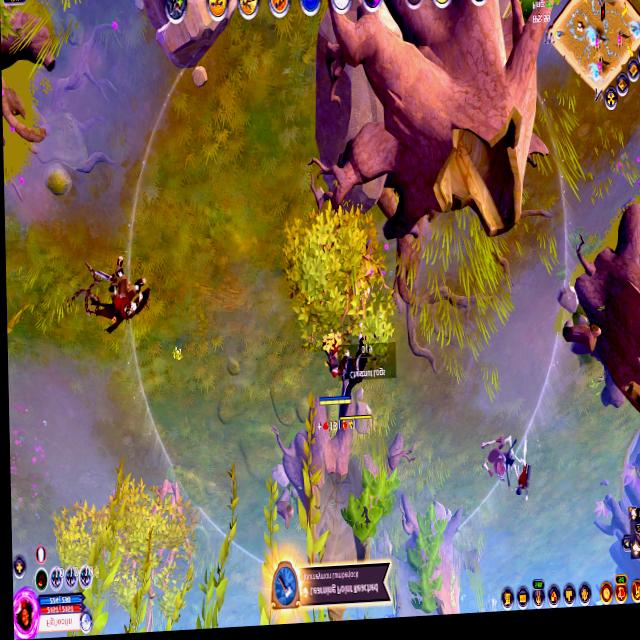ore: (85, 237, 154, 339), (500, 420, 536, 502)
red: (315, 334, 353, 411)
